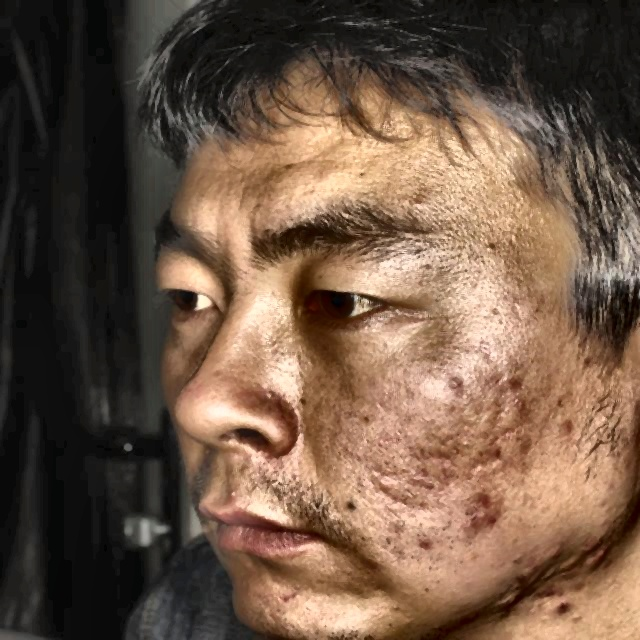pustule: (579, 542, 624, 570), (547, 591, 579, 620), (556, 413, 586, 442), (509, 559, 530, 590), (543, 539, 569, 564), (413, 530, 437, 554), (470, 482, 498, 502), (488, 514, 510, 538)
